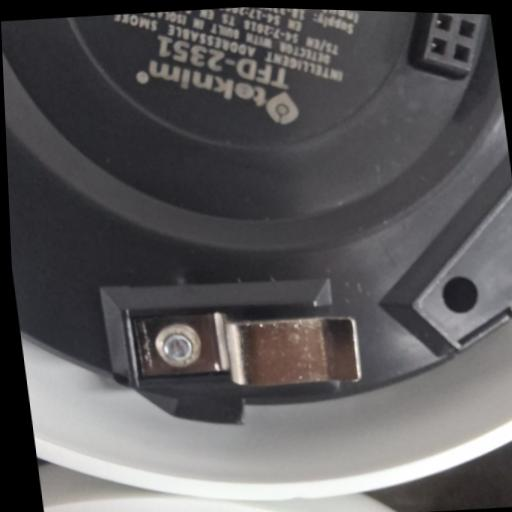yaysiz: (124, 293, 364, 402)
